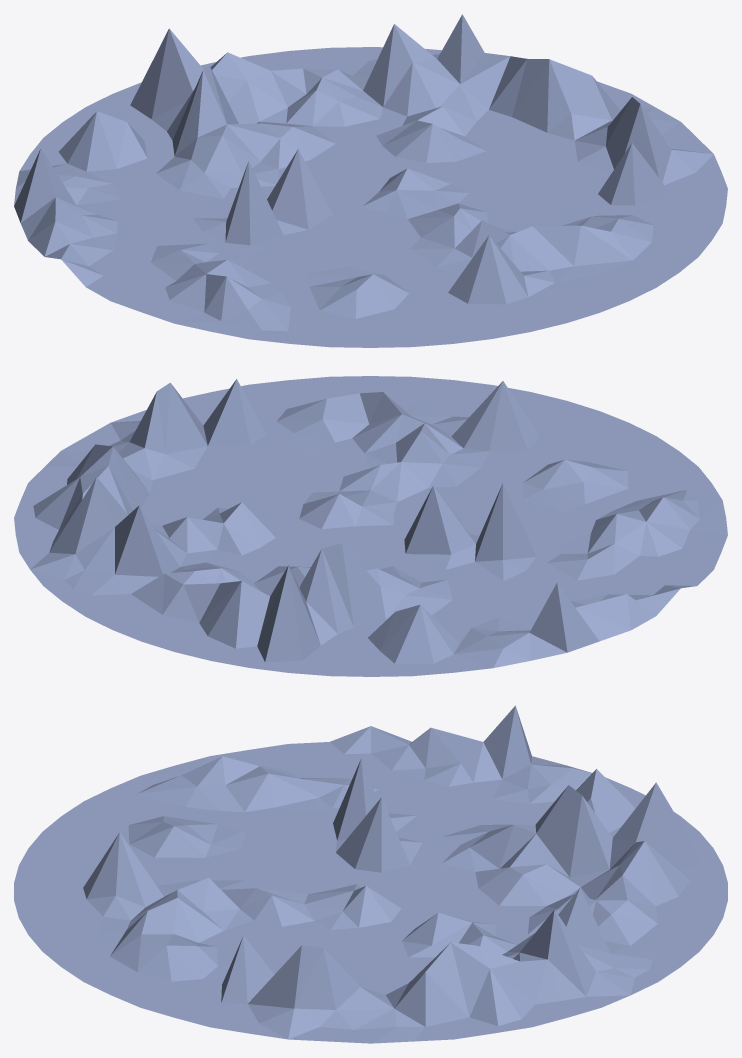
File: thorn_ice (1).FBX
The picture shows the model from 3 angles, top to bottom: view 1: azimuth 30°, elevation 25°; view 2: azimuth 150°, elevation 25°; view 3: azimuth 270°, elevation 25°; orthographic projection.
Parts seen in each view (by area): view 1: Circle001; view 2: Circle001; view 3: Circle001.
Part boxes in pixels (left/top/right/bottom): Circle001: left=14, top=14, right=727, bottom=347; Circle001: left=14, top=376, right=727, bottom=676; Circle001: left=14, top=705, right=727, bottom=1043.
Size of the model in its own units: 28.67 by 3.53 by 28.48.
